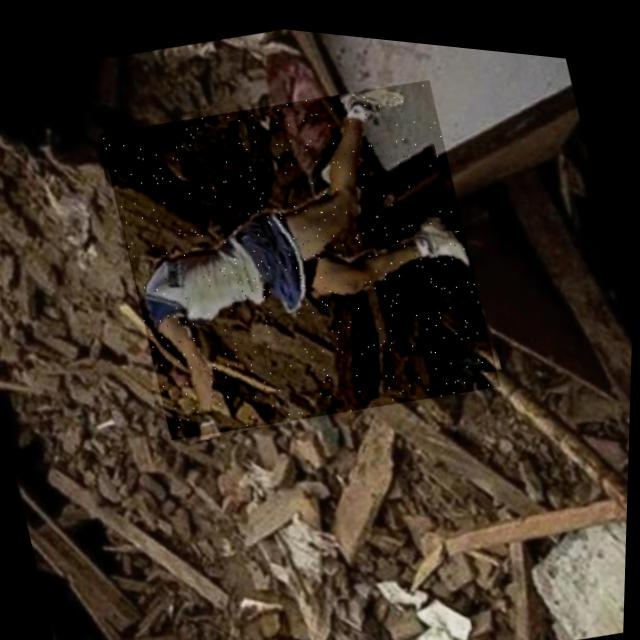Person in Rubble: (94, 42, 509, 462)
